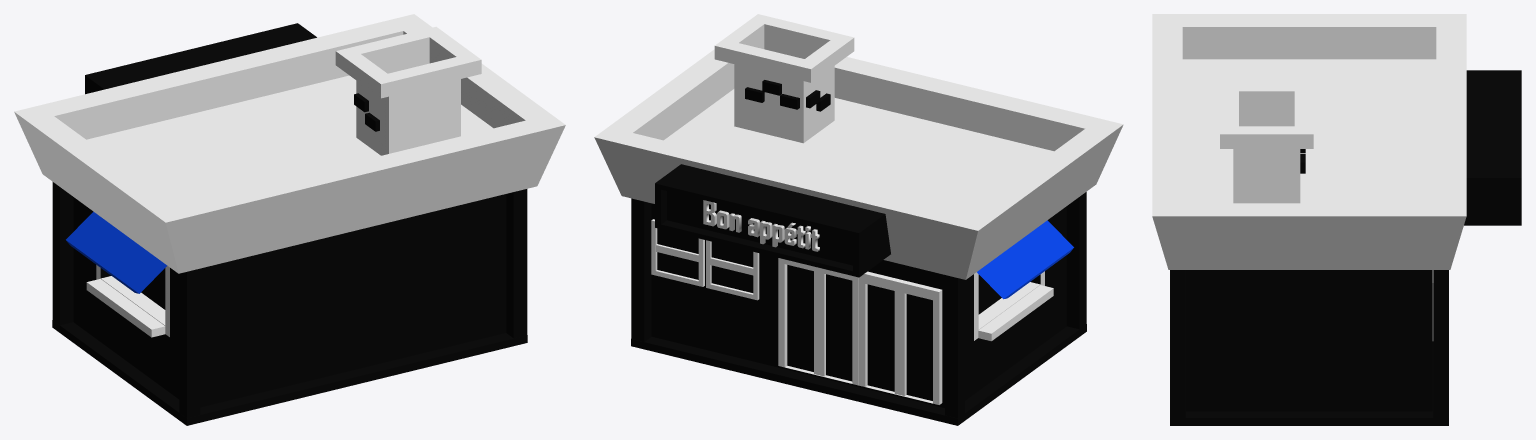
The model's file is restaurant1.fbx.
3 views of the same model, side by side, from view 1: azimuth 30°, elevation 25°; view 2: azimuth 150°, elevation 25°; view 3: azimuth 270°, elevation 25° (orthographic). The views are drawn at different scales.
Parts seen in each view (by area): view 1: restaurant1; view 2: restaurant1; view 3: restaurant1.
Part boxes in pixels (x1,y1,x2,y2): restaurant1: [14, 14, 565, 425]; restaurant1: [594, 14, 1123, 425]; restaurant1: [1152, 14, 1521, 425].
Bounding box in the file's own units: 536 × 346 × 413.
